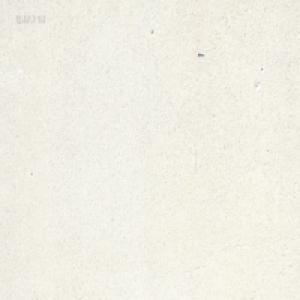Nail: (197, 52, 204, 57)
